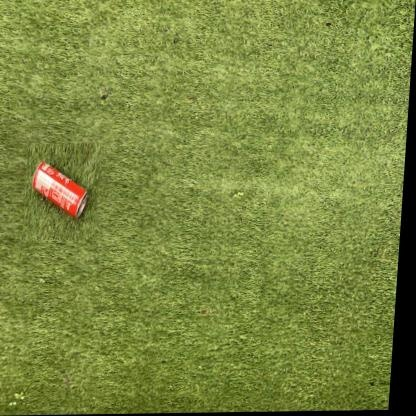trash: (33, 162, 87, 217)
